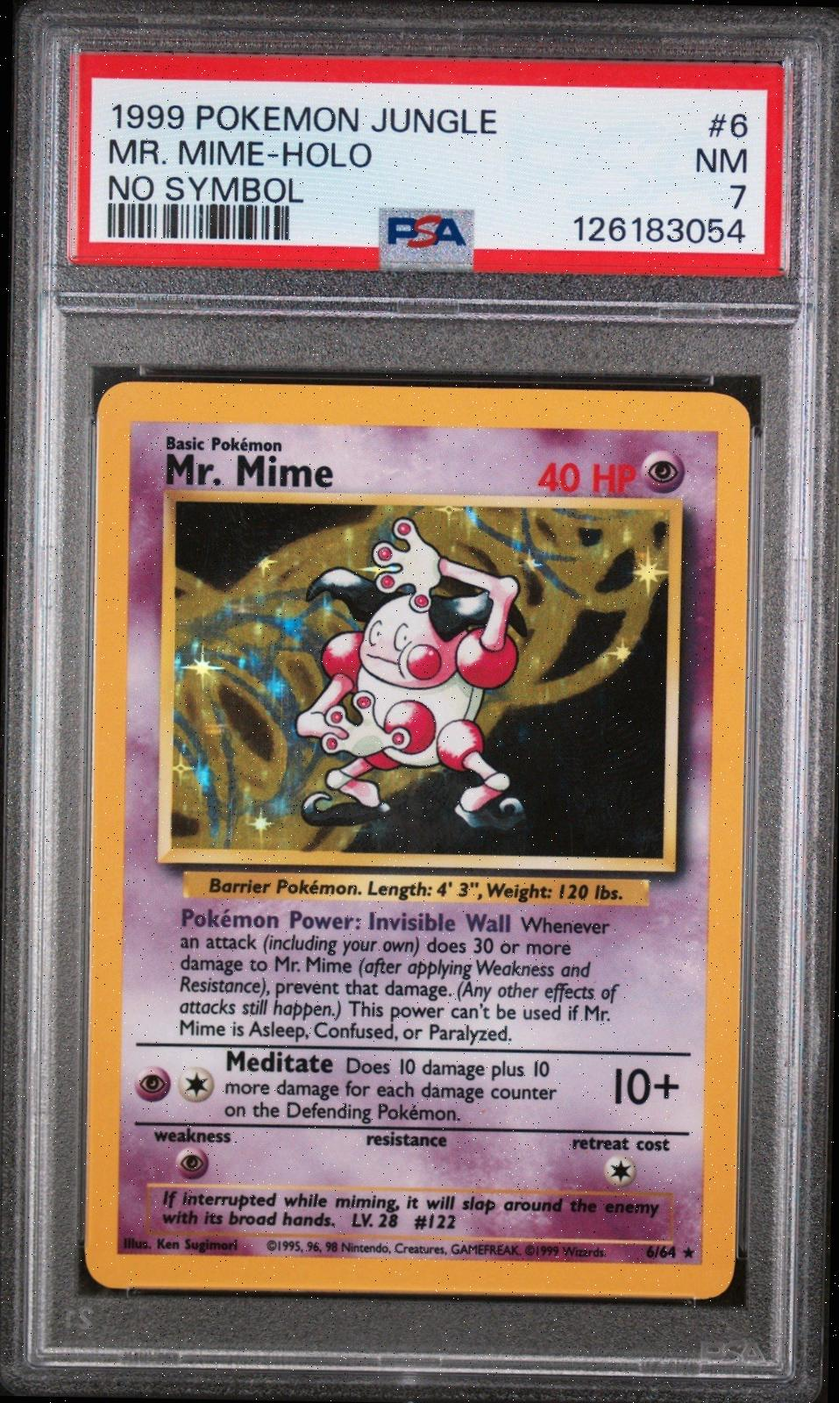card-2UtV: (82, 381, 750, 1300)
